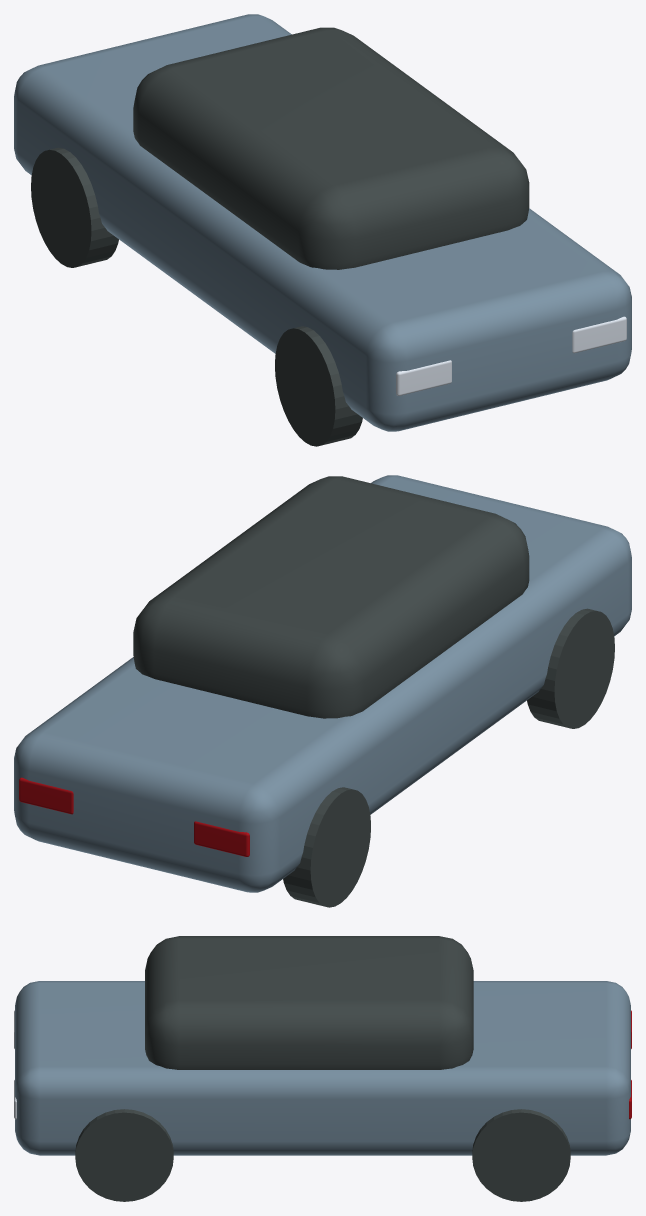
File: vehicle-base.glb
The picture shows the model from 3 angles, top to bottom: view 1: azimuth 30°, elevation 25°; view 2: azimuth 150°, elevation 25°; view 3: azimuth 270°, elevation 25°; orthographic projection. The views are drawn at different scales.
Parts seen in each view (by area): view 1: Vehicle body, Vehicle cabin, Wheel, Wheel.001, Headlamp, Headlamp.001; view 2: Vehicle body, Vehicle cabin, Wheel.001, Wheel, Taillamp left, Taillamp right; view 3: Vehicle body, Vehicle cabin, Wheel.002, Wheel.003.
Part boxes in pixels (x1,y1,x2,y2): Vehicle body: (14,14,631,431); Vehicle cabin: (133,27,529,269); Wheel: (275,326,362,446); Wheel.001: (31,147,118,267); Headlamp: (396,360,451,395); Headlamp.001: (572,316,626,353); Vehicle body: (14,475,631,892); Vehicle cabin: (133,476,529,718); Wheel.001: (283,787,370,907); Wheel: (527,608,614,728); Taillamp left: (194,821,249,856); Taillamp right: (19,777,73,814); Vehicle body: (15,981,630,1155); Vehicle cabin: (145,936,473,1069); Wheel.002: (75,1109,173,1201); Wheel.003: (472,1109,570,1201).
Bounding box in the file's own units: 1.92 × 1.43 × 4.52.
